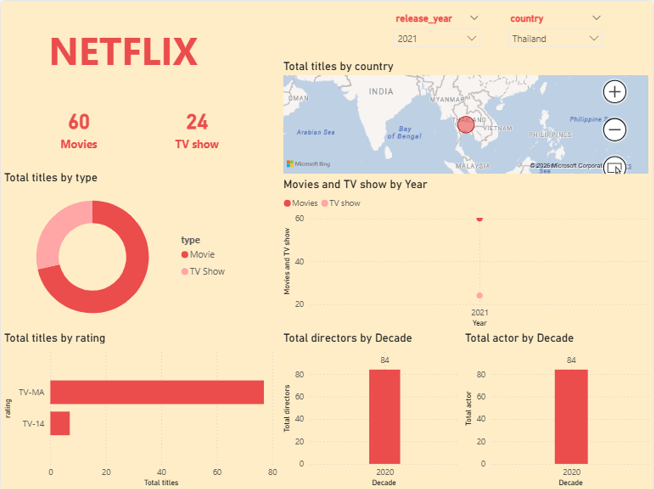

The page's visual inventory and layout, read from the dashboard file:
{"tool":"powerbi","page":{"name":"Page 1","canvas":[960,720],"ordinal":0},"visuals":[{"type":"map","fields":{"Category":["netflix_titles.country"],"Size":["netflix_titles.Total_titles"]},"box":[411.8,84.4,547.9,174.4],"z":0},{"type":"lineChart","fields":{"Category":["netflix_titles.date_added.Variation.Date Hierarchy.Year","netflix_titles.date_added.Variation.Date Hierarchy.Quarter","netflix_titles.date_added.Variation.Date Hierarchy.Month","netflix_titles.date_added.Variation.Date Hierarchy.Day"],"Y":["netflix_titles.Movies","netflix_titles.TV show"]},"box":[411.8,258.8,547.9,226.1],"z":1000},{"type":"clusteredColumnChart","fields":{"Category":["netflix_titles.Decade"],"Y":["netflix_titles.Total actor"]},"box":[678.4,484.9,281.2,235.1],"z":2000},{"type":"clusteredColumnChart","fields":{"Category":["netflix_titles.Decade"],"Y":["netflix_titles.Total directors"]},"box":[411.8,484.9,266.6,235.1],"z":3000},{"type":"clusteredBarChart","fields":{"Category":["netflix_titles.rating"],"Y":["netflix_titles.Total_titles"]},"box":[0,484.9,411.8,235.1],"z":4000},{"type":"donutChart","fields":{"Category":["netflix_titles.type"],"Y":["netflix_titles.Total_titles"]},"box":[0,248.6,344.2,236.2],"z":5000},{"type":"card","fields":{"Values":["netflix_titles.Movies"]},"box":[23.6,129.4,182.2,110.2],"z":6000},{"type":"card","fields":{"Values":["netflix_titles.TV show"]},"box":[205.9,129.4,165.4,110.2],"z":7000},{"type":"textbox","box":[46.1,28.1,267.8,101.2],"z":8000},{"type":"slicer","fields":{"Values":["netflix_titles.country"]},"box":[736.9,12.4,158.6,72],"z":9000},{"type":"slicer","fields":{"Values":["netflix_titles.release_year"]},"box":[568.1,12.4,147.4,72],"z":10000}]}

Visuals, with their boxes in screenshot pixels (x1, y1, x2, y2), scaled from the page's 960x720 canvas onto the 654x489 screenshot:
map - netflix_titles.country x netflix_titles.Total_titles: 281 57 653 176
lineChart - netflix_titles.date_added.Variation.Date Hierarchy.Year x netflix_titles.date_added.Variation.Date Hierarchy.Quarter: 281 176 653 329
clusteredColumnChart - netflix_titles.Decade x netflix_titles.Total actor: 462 329 653 488
clusteredColumnChart - netflix_titles.Decade x netflix_titles.Total directors: 281 329 462 488
clusteredBarChart - netflix_titles.rating x netflix_titles.Total_titles: 0 329 281 488
donutChart - netflix_titles.type x netflix_titles.Total_titles: 0 169 234 329
card - netflix_titles.Movies: 16 88 140 163
card - netflix_titles.TV show: 140 88 253 163
textbox: 31 19 214 88
slicer - netflix_titles.country: 502 8 610 57
slicer - netflix_titles.release_year: 387 8 487 57
